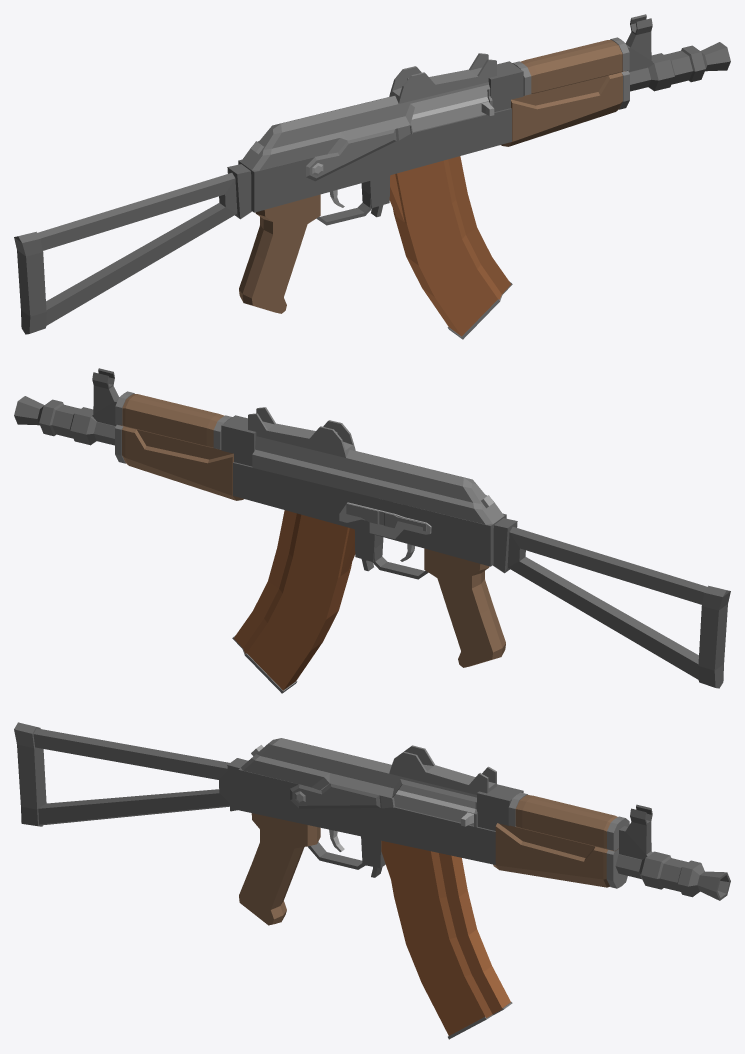
File: aksu.fbx
3 views of the same model, one above another, from view 1: azimuth 30°, elevation 25°; view 2: azimuth 150°, elevation 25°; view 3: azimuth 330°, elevation 25° (orthographic).
Visible parts, largest first — view 1: Cube.008, Cube.012, Cube, Cube.019, Cube.003, Cube.002, Cube.001, Cylinder, Cube.010, Circle, Cube.020, Cube.009 (+3 smaller); view 2: Cube.008, Cube.012, Cube.019, Cube, Cube.003, Cube.002, Cube.001, Cylinder, Cube.010, Cube.009, Cube.011, Cube.023 (+3 smaller); view 3: Cube.008, Cube.012, Cube, Cube.019, Cube.003, Cube.002, Cube.001, Cylinder, Cube.010, Circle, Cube.020, Cube.011 (+4 smaller).
Boxes of the visible parts, x1,y1,x2,y2 form: Cube.008: (389, 156, 511, 336); Cube.012: (14, 164, 251, 334); Cube: (238, 108, 511, 212); Cube.019: (241, 82, 492, 170); Cube.003: (239, 194, 320, 313); Cube.002: (501, 71, 624, 146); Cube.001: (520, 40, 622, 93); Cylinder: (629, 42, 730, 91); Cube.010: (389, 53, 496, 103); Circle: (306, 125, 412, 181); Cube.020: (410, 90, 488, 131); Cube.009: (488, 61, 523, 111); Cube.008: (233, 510, 355, 690); Cube.012: (493, 518, 730, 688); Cube.019: (252, 436, 503, 524); Cube: (233, 462, 506, 566); Cube.003: (424, 548, 505, 667); Cube.002: (120, 425, 243, 500); Cube.001: (122, 394, 224, 447); Cylinder: (14, 396, 115, 445); Cube.010: (248, 407, 355, 457); Cube.009: (221, 415, 256, 466); Cube.011: (92, 368, 119, 425); Cube.023: (339, 502, 431, 538); Cube.008: (381, 840, 510, 1035); Cube.012: (14, 722, 247, 826); Cube: (238, 768, 495, 864); Cube.019: (241, 738, 477, 827); Cube.003: (239, 813, 320, 925); Cube.002: (493, 823, 618, 887); Cube.001: (515, 795, 617, 849); Cylinder: (615, 851, 730, 900); Cube.010: (389, 745, 496, 794); Circle: (290, 783, 395, 808); Cube.020: (393, 784, 475, 825); Cube.011: (619, 804, 652, 859).
Bounding box in the file's own units: 755 × 280 × 44.55.
